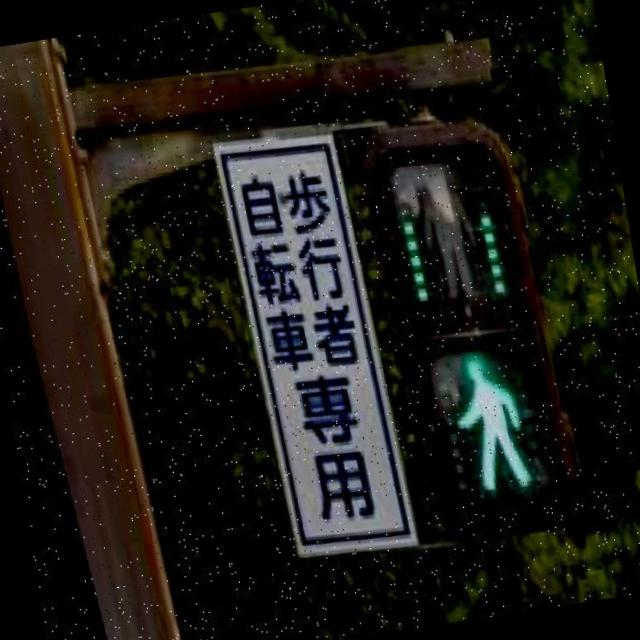green_light: (421, 340, 552, 510)
